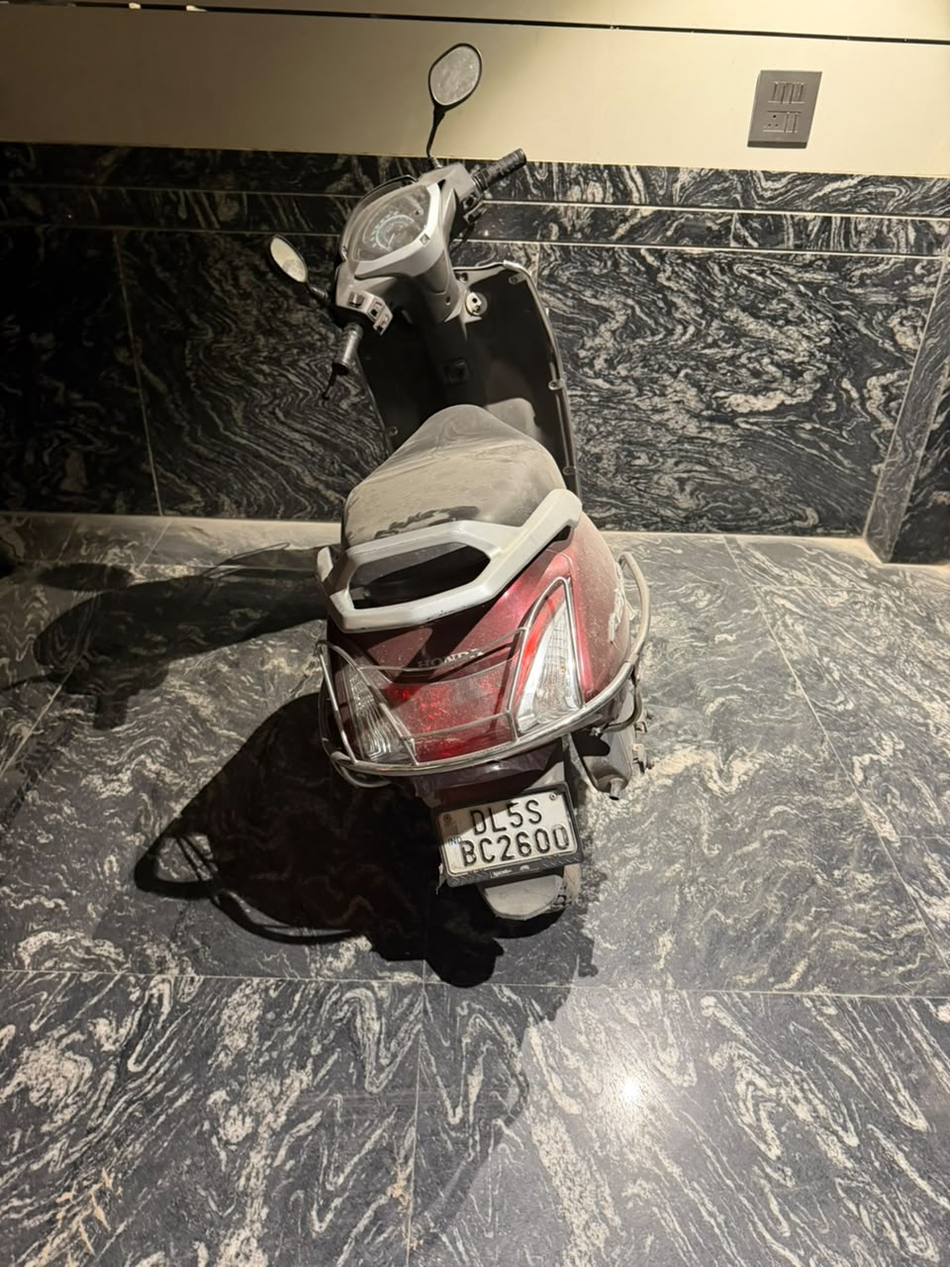vehicle: (438, 783, 580, 879)
